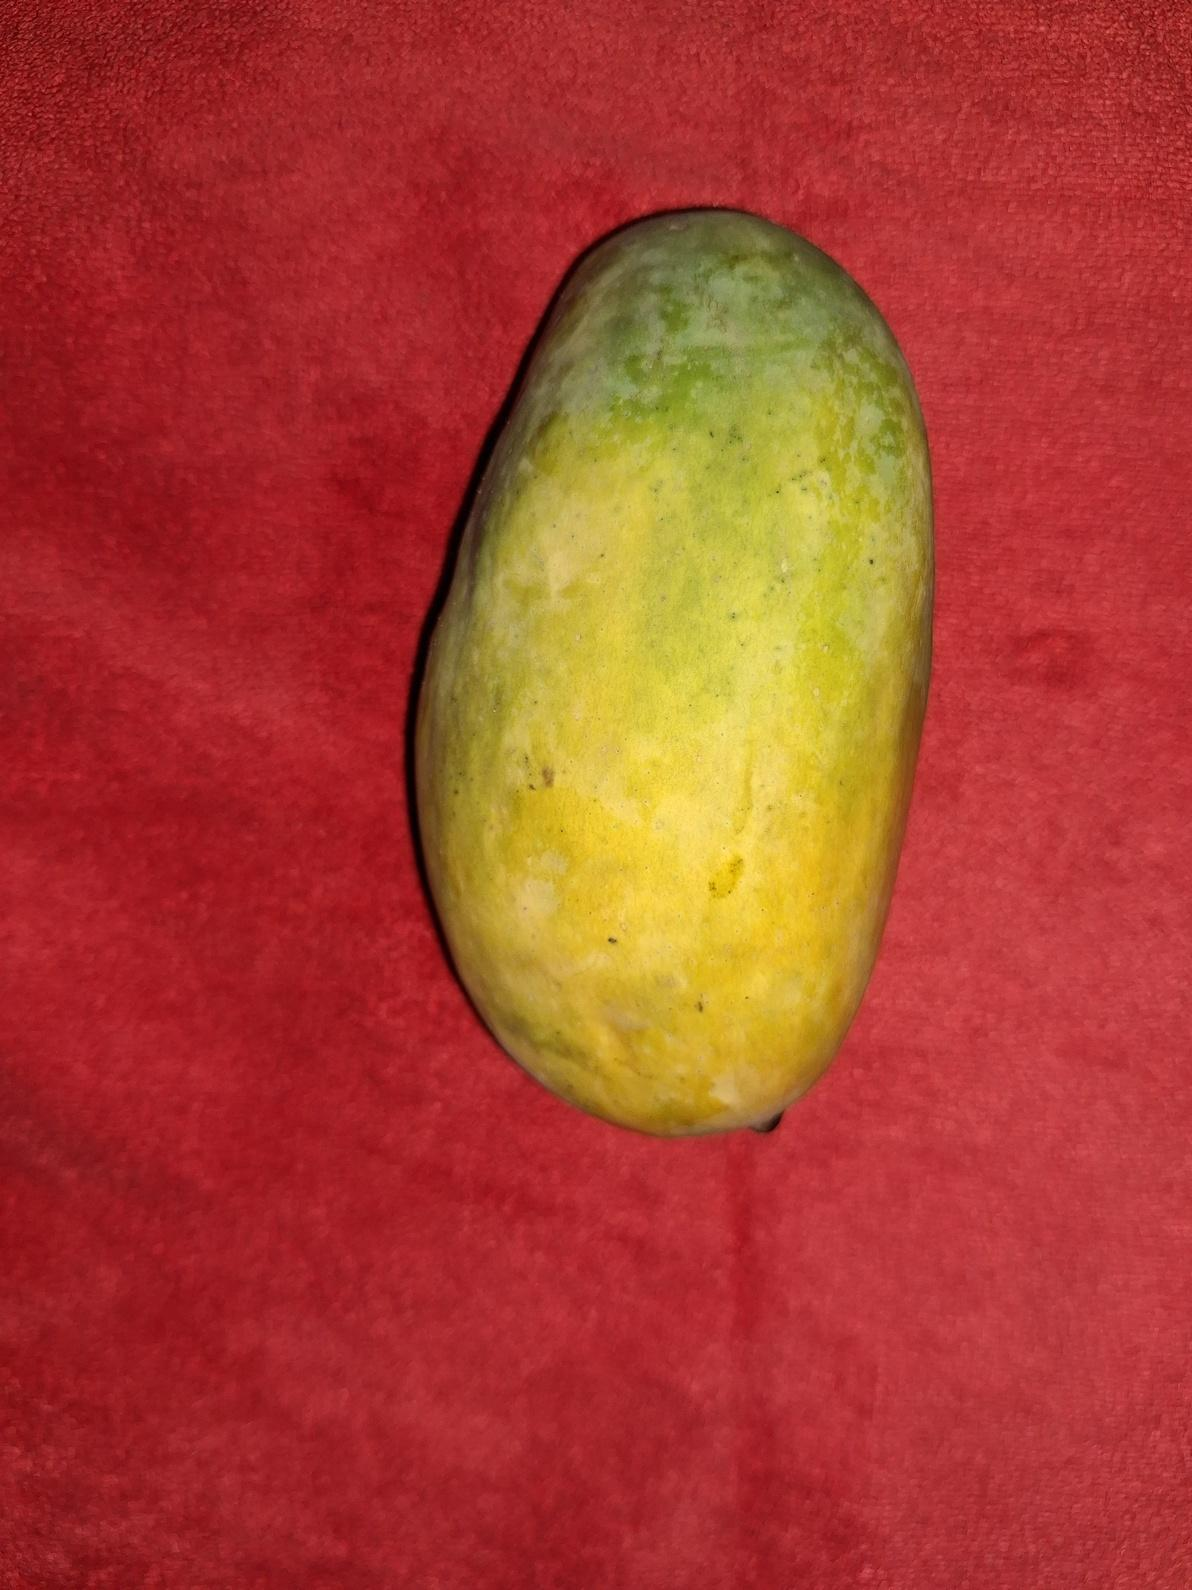mango: (409, 203, 937, 1137)
